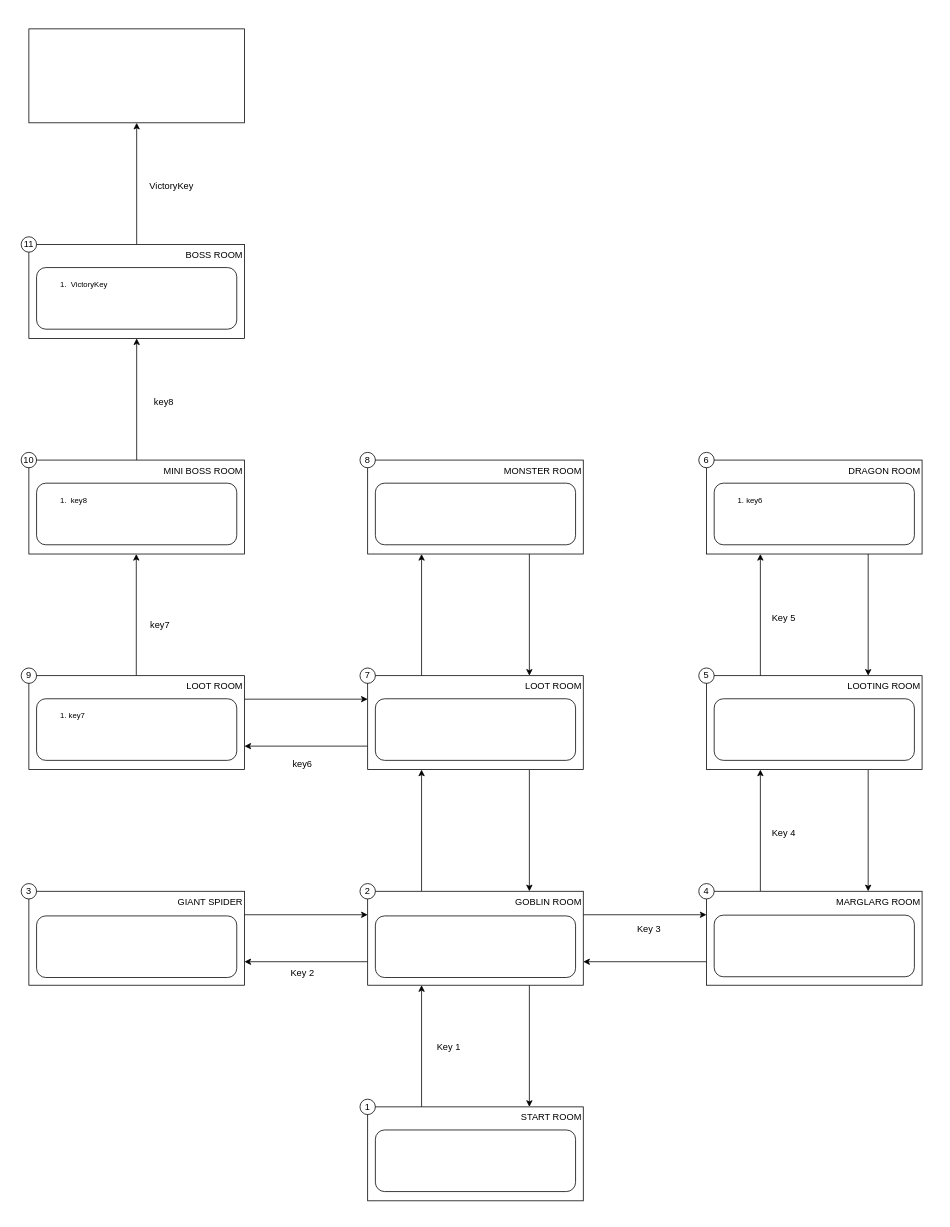
The diagram is 950 pixels wide and 1227 high, and some of its shapes have lost their labels. Here are the shapes that lost their labels. From the top down, the centre of each, then its label:
point 136,75: VICTORY ROOM
point 475,513: key5
point 136,946: key3
point 475,946: key2
point 813,945: key4
point 475,1160: key1
